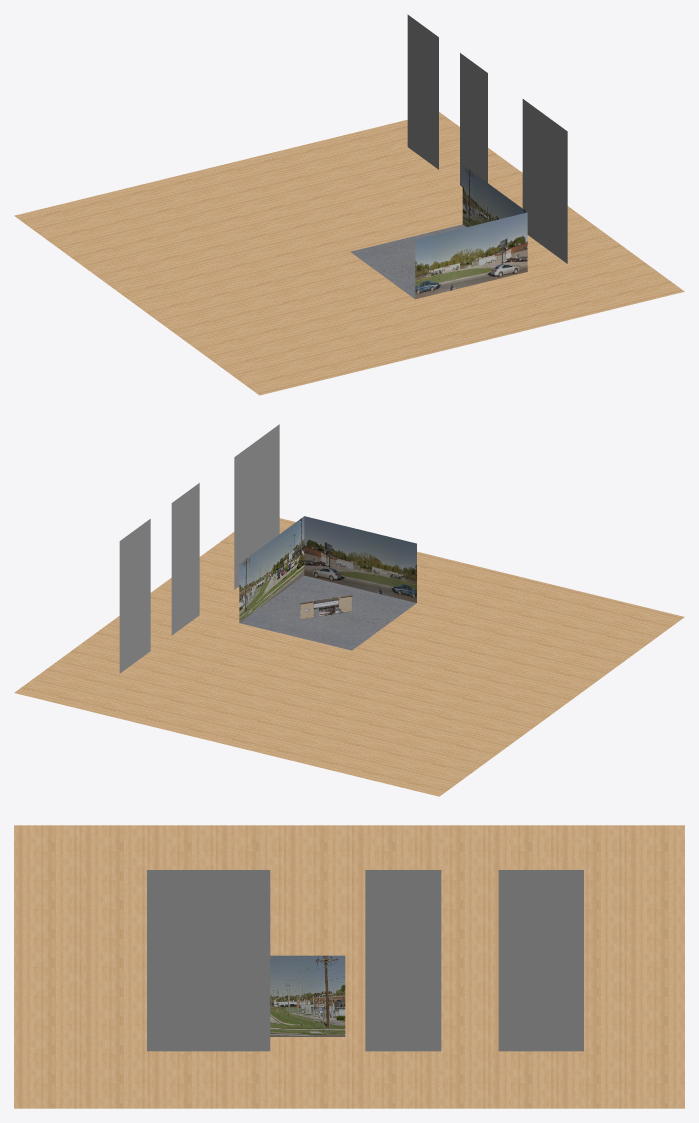
File: market.fbx
3 renders of one model, top to bottom at view 1: azimuth 30°, elevation 25°; view 2: azimuth 150°, elevation 25°; view 3: azimuth 270°, elevation 25°, orthographic. The views are drawn at different scales.
Parts seen in each view (by area): view 1: wood_floor, curtains1, polySurface5, polySurface6, polySurface7; view 2: wood_floor, curtains1, polySurface5, polySurface6, polySurface7, marketFacade_withDoor:facade; view 3: wood_floor, curtains1, polySurface7.
Boxes of the visible parts, bbox=[...] form: wood_floor: bbox=[14, 112, 684, 395]; curtains1: bbox=[407, 14, 567, 263]; polySurface5: bbox=[415, 212, 527, 299]; polySurface6: bbox=[350, 224, 466, 298]; polySurface7: bbox=[462, 165, 527, 226]; wood_floor: bbox=[14, 518, 684, 796]; curtains1: bbox=[119, 424, 279, 673]; polySurface5: bbox=[304, 516, 416, 602]; polySurface6: bbox=[239, 575, 416, 650]; polySurface7: bbox=[239, 516, 304, 622]; marketFacade_withDoor:facade: bbox=[299, 595, 352, 619]; wood_floor: bbox=[14, 825, 684, 1108]; curtains1: bbox=[147, 870, 583, 1051]; polySurface7: bbox=[270, 955, 345, 1036].
Bounding box in the file's own units: 11081 × 3679 × 11081.
6 materials, 5 textured.
